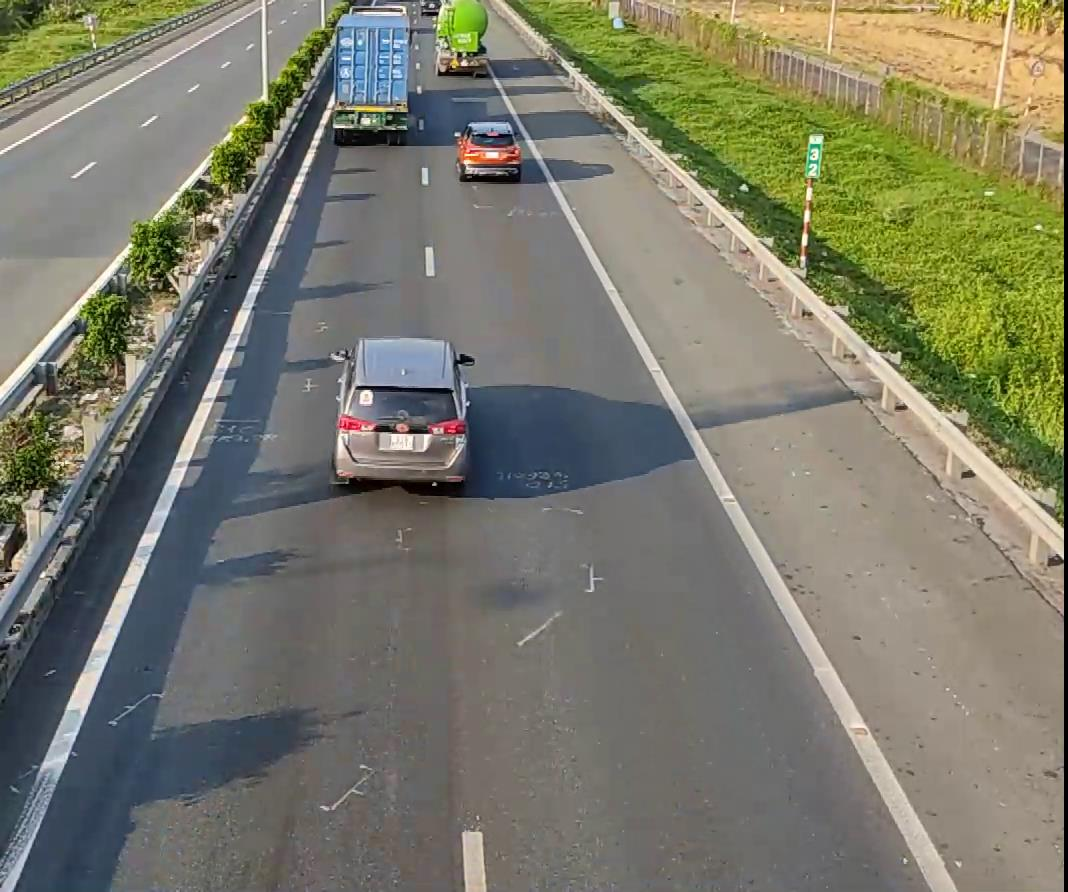car: (332, 335, 473, 489), (454, 119, 521, 180)
container: (330, 0, 414, 141)
